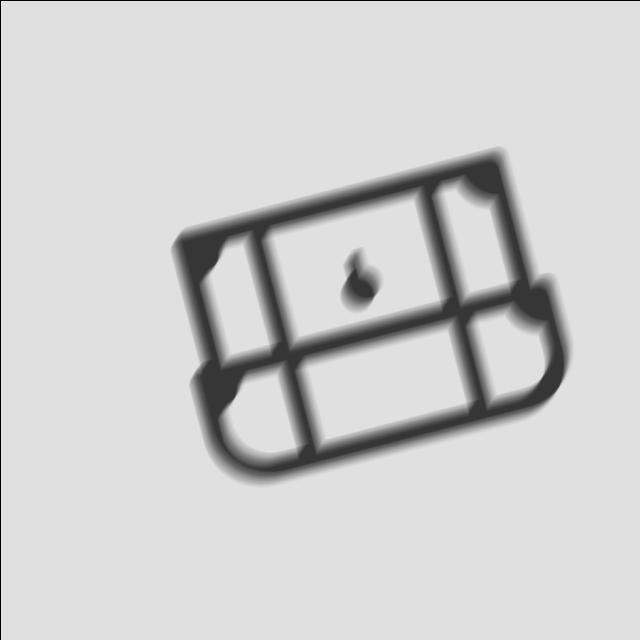treasure_box: (163, 140, 581, 488)
